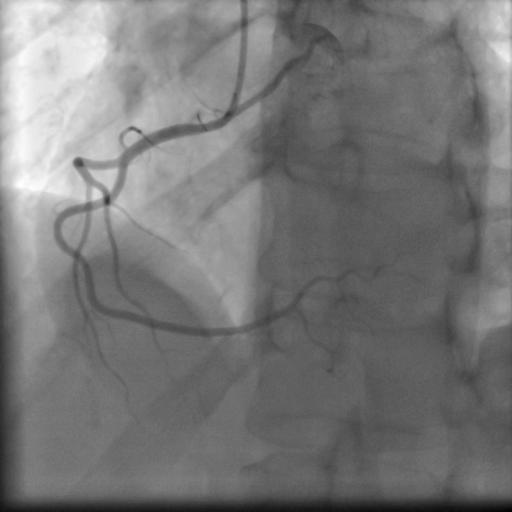Stenosis: (74, 254, 96, 292)
